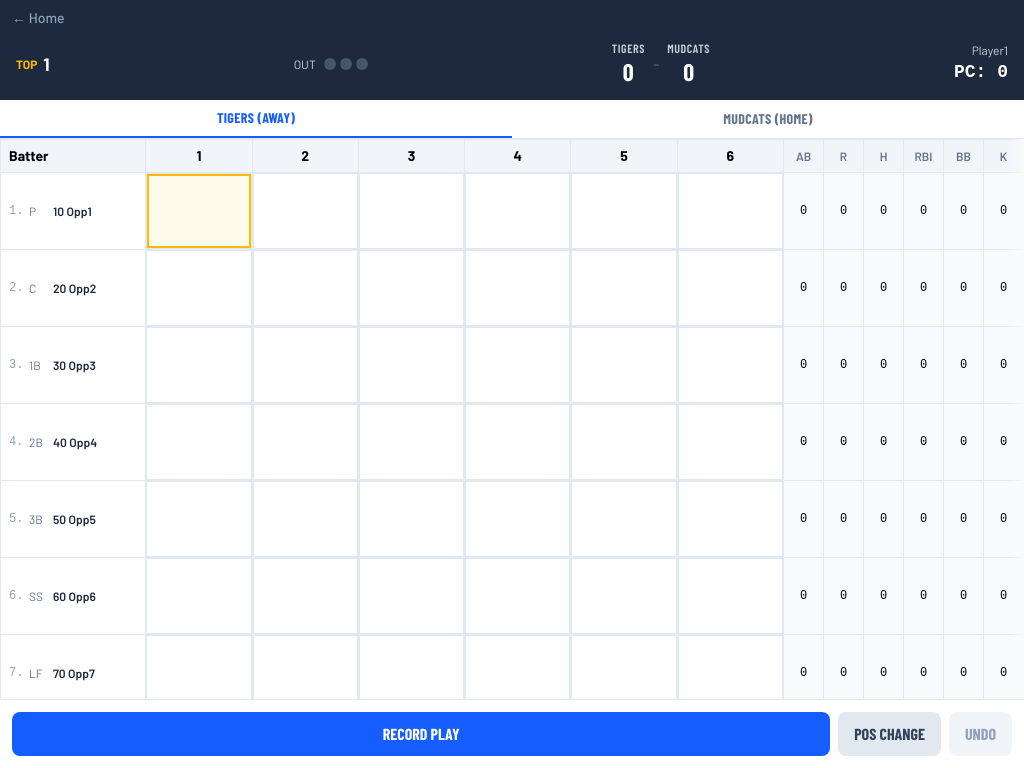
GamePage › shows K vs KL confirmation after 3rd strike
This screenshot has width=1024, height=768.
Click the button "Record Play".
click(421, 734)  # box [12,712,830,756]
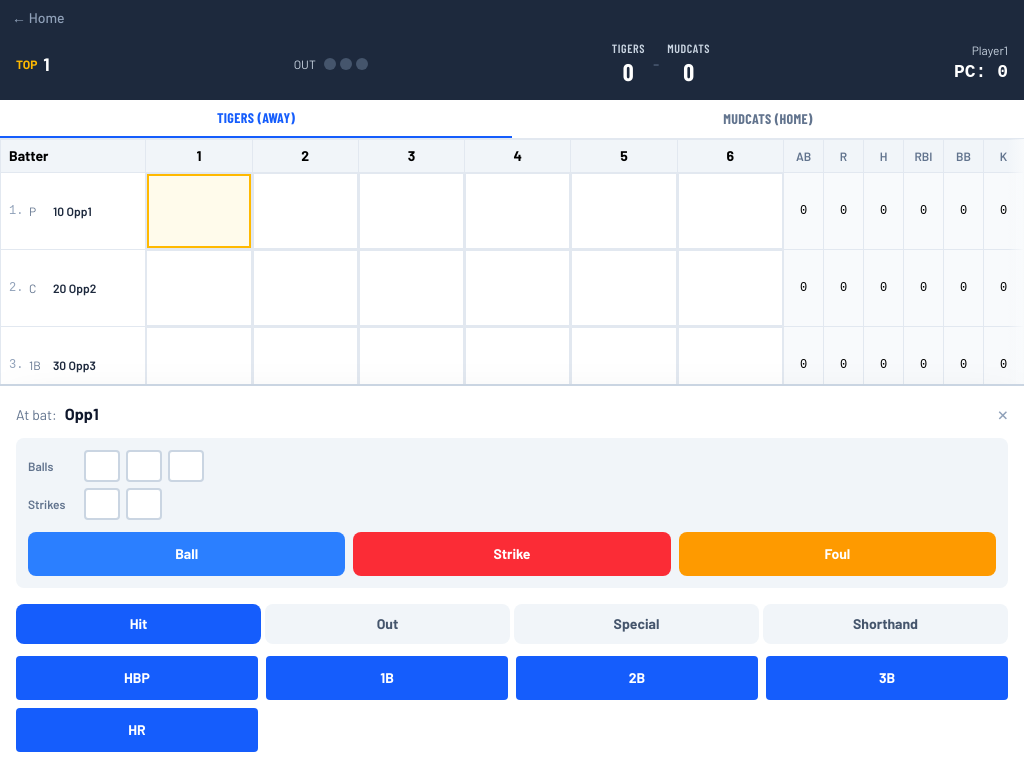
Check: the button "Strike" is shown
Click the button "Strike".
click(512, 554)  # box [353,532,671,576]
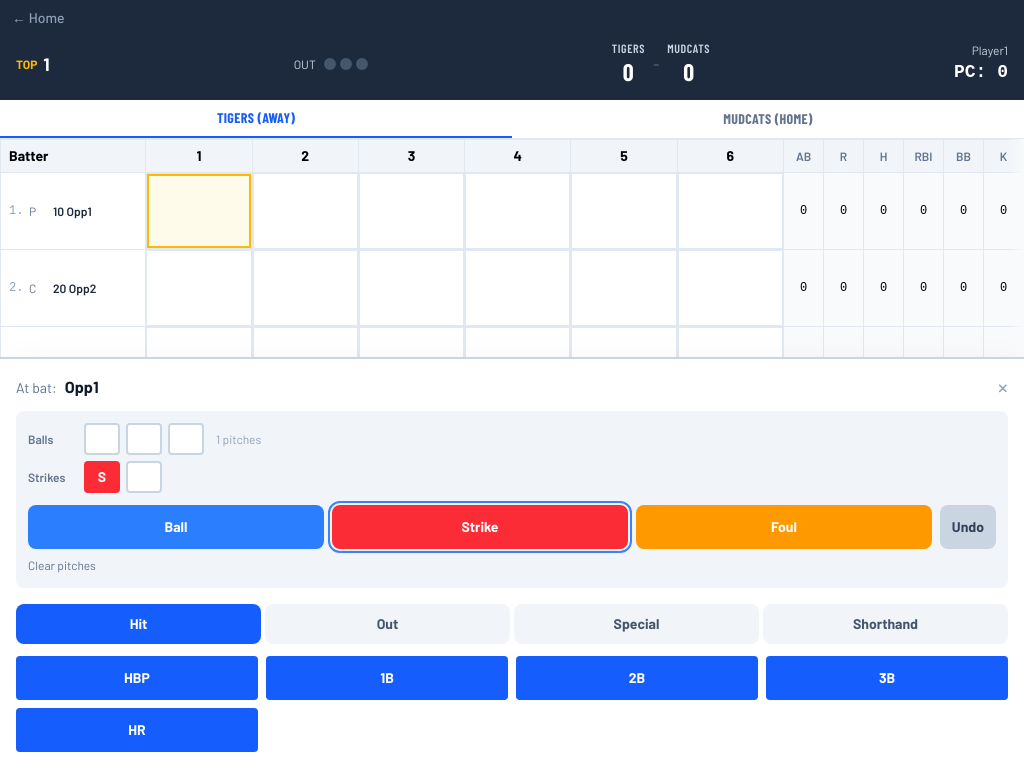
Click the button "Strike".
click(480, 527)  # box [332,505,628,549]
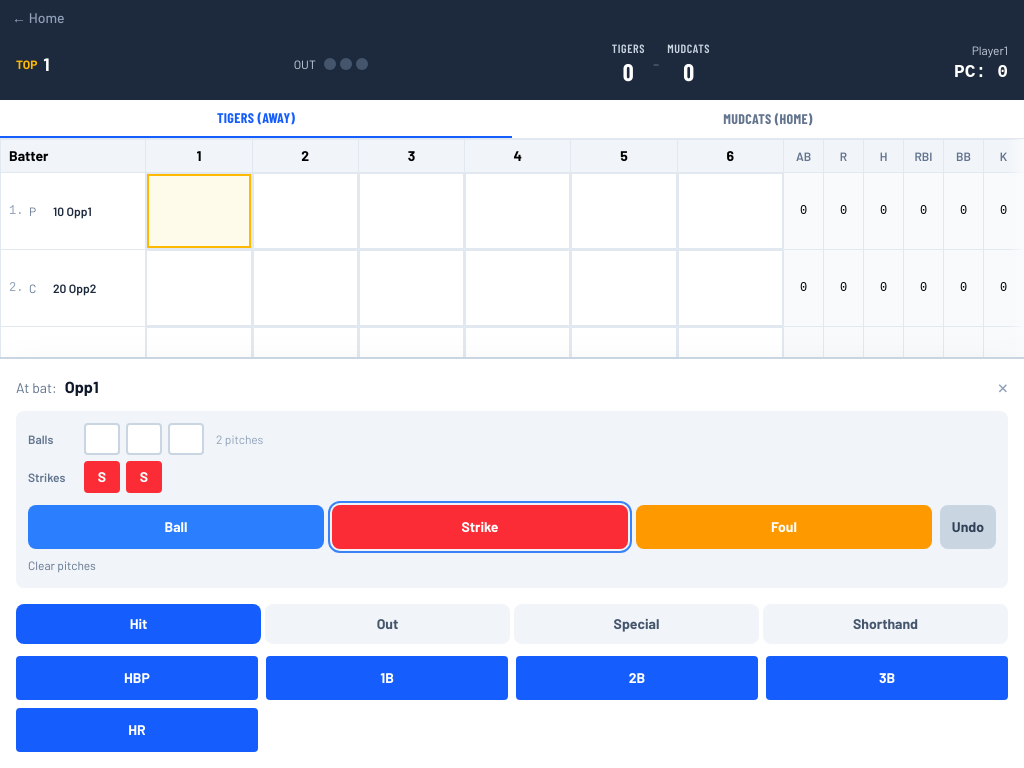
Click the button "Strike".
click(480, 527)  # box [332,505,628,549]
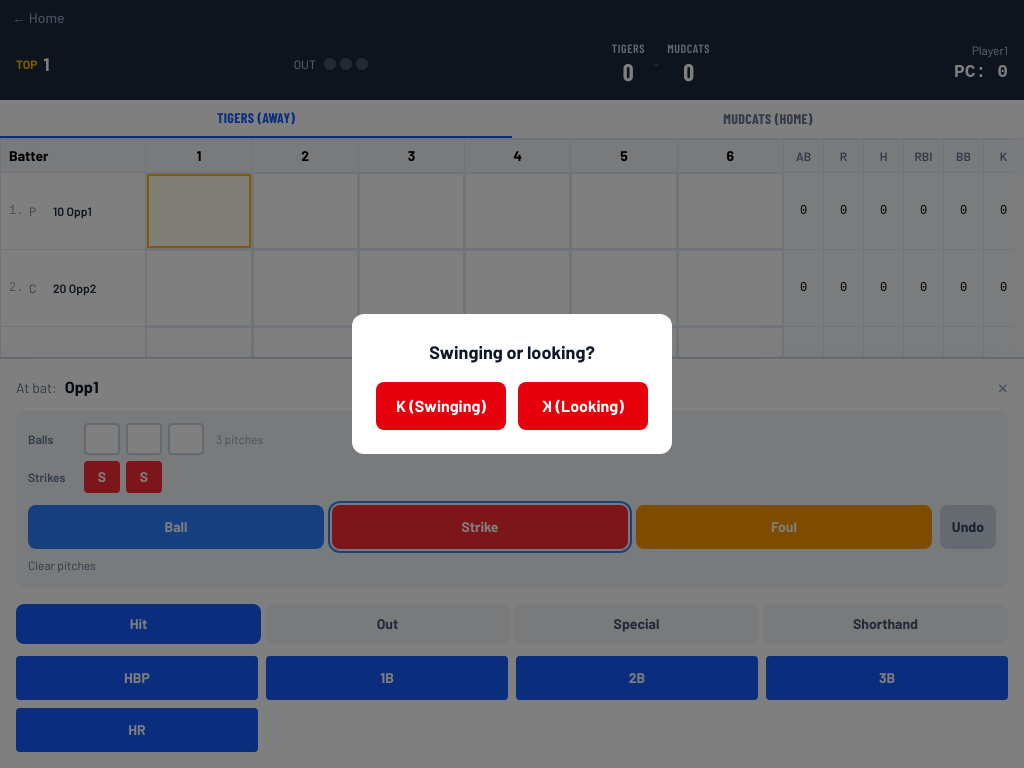
Check: the heading "Swinging or looking?" is shown, box [429,341,595,363]
